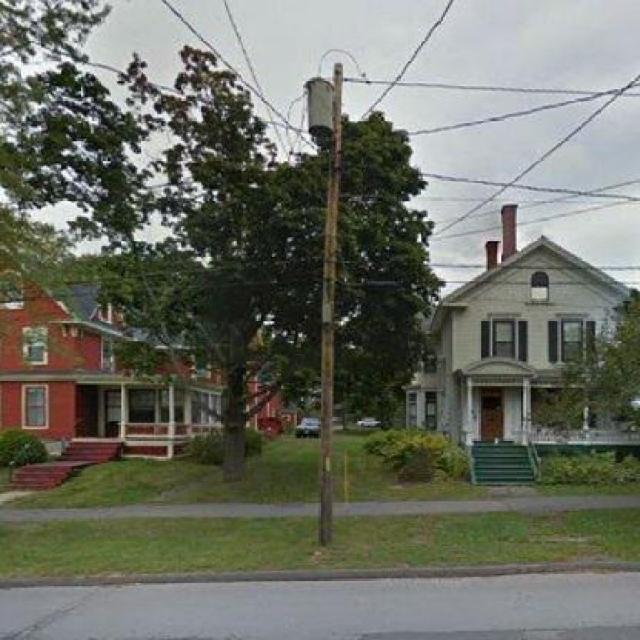pole: (300, 42, 366, 544)
